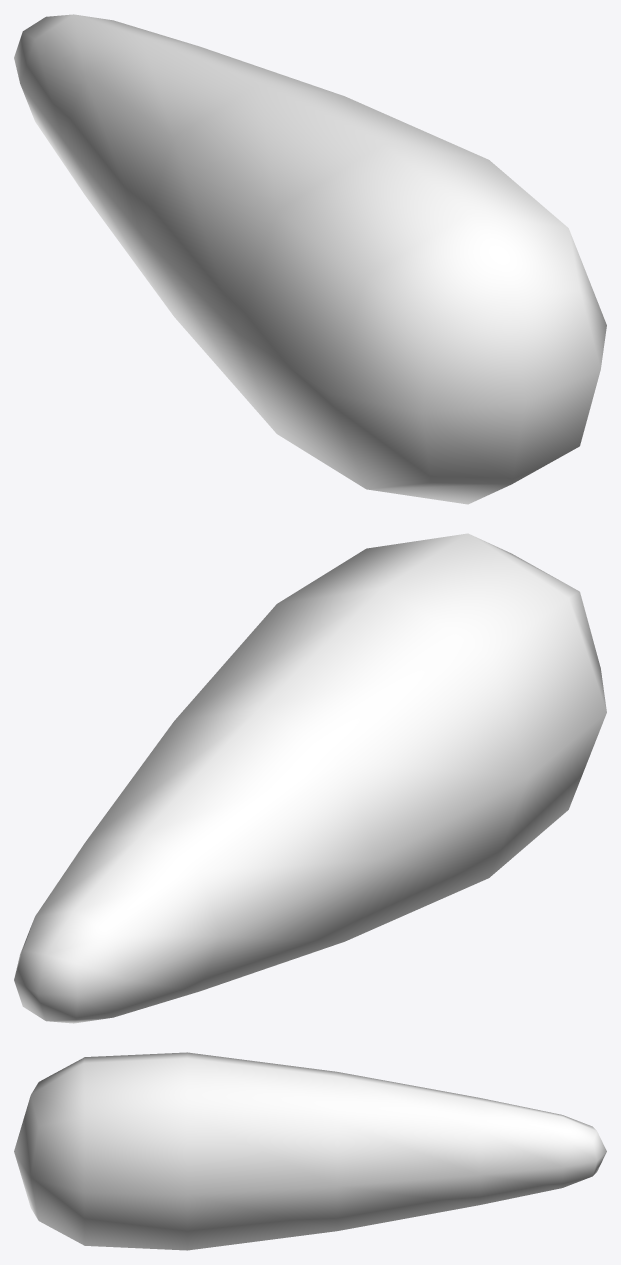
Rendered from 加特林子弹.fbx.
3 views of the same model, one above another, from view 1: azimuth 30°, elevation 25°; view 2: azimuth 150°, elevation 25°; view 3: azimuth 270°, elevation 25° (orthographic). The views are drawn at different scales.
Parts seen in each view (by area): view 1: 立方体; view 2: 立方体; view 3: 立方体.
Boxes of the visible parts, <box> form: 立方体: <box>14,14,606,504</box>; 立方体: <box>14,533,606,1023</box>; 立方体: <box>14,1052,606,1250</box>.
Bounding box in the file's own units: 64.02 × 64.02 × 185.
Materials: 1 (1 with a texture image).
